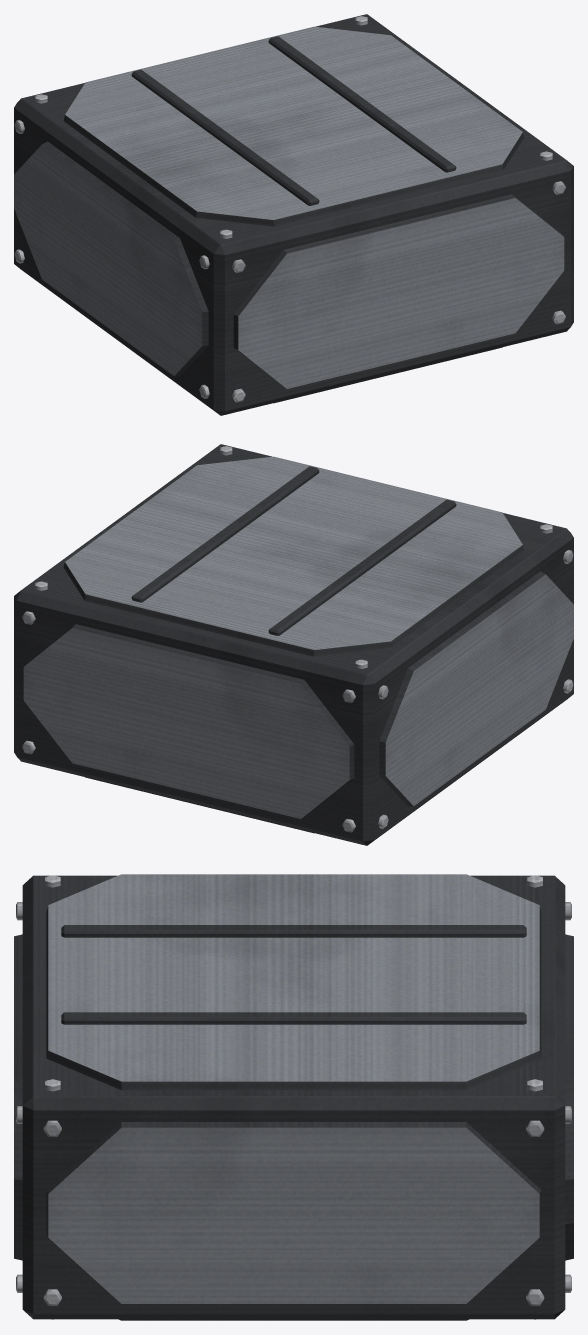
The model's file is R4B_HalfBlock.glb.
3 renders of one model, top to bottom at view 1: azimuth 30°, elevation 25°; view 2: azimuth 150°, elevation 25°; view 3: azimuth 270°, elevation 25°, orthographic. The views are drawn at different scales.
Parts seen in each view (by area): view 1: R4B_HalfBlock; view 2: R4B_HalfBlock; view 3: R4B_HalfBlock.
Boxes of the visible parts, x1=… form: R4B_HalfBlock: x1=14, y1=14, x2=573, y2=415; R4B_HalfBlock: x1=14, y1=444, x2=573, y2=845; R4B_HalfBlock: x1=14, y1=874, x2=573, y2=1320.
Size of the model in its own units: 0.52 by 0.252 by 0.52.
3 materials, 3 textured.
